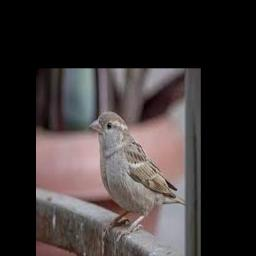Sparrow: (88, 111, 186, 242)
